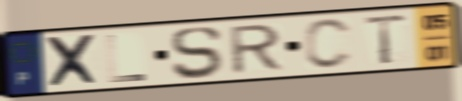C: (302, 17, 356, 72)
L: (104, 33, 149, 85)
R: (228, 21, 287, 77)
S: (168, 24, 224, 82)
T: (361, 12, 410, 67)
X: (42, 32, 103, 90)
